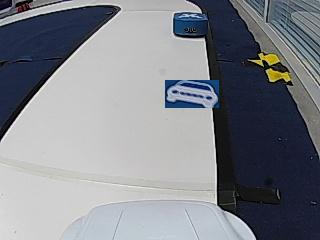prop: (173, 13, 208, 38)
